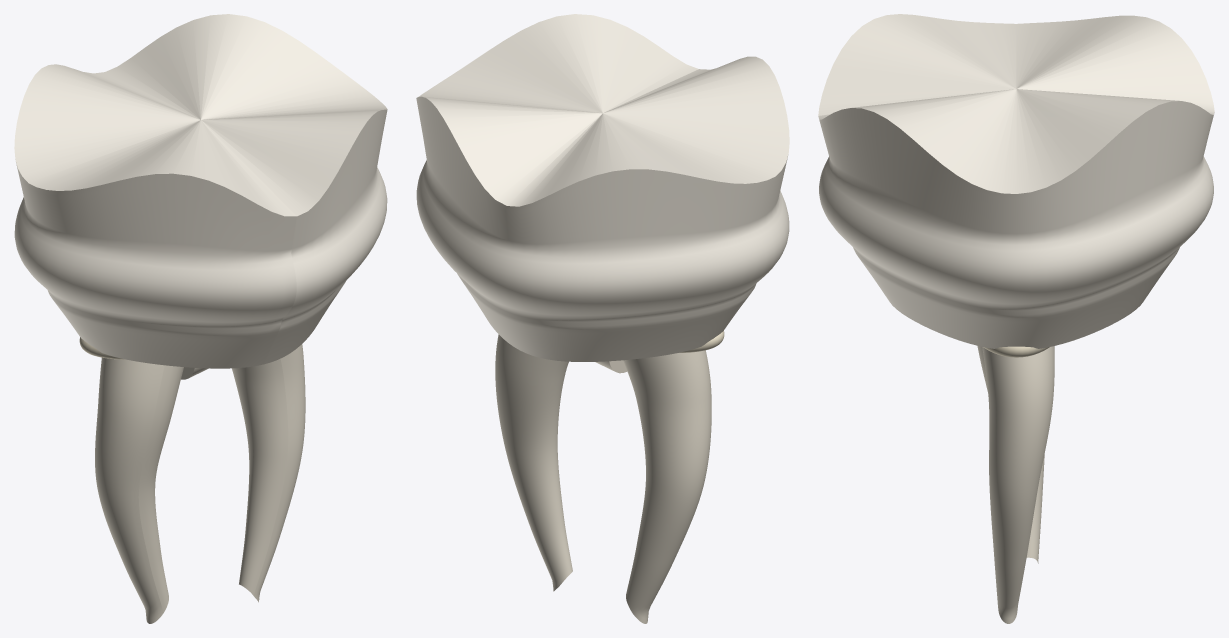
Rendered from molar-tooth.glb.
3 views of the same model, side by side, from view 1: azimuth 30°, elevation 25°; view 2: azimuth 150°, elevation 25°; view 3: azimuth 270°, elevation 25° (orthographic). The views are drawn at different scales.
Visible parts, largest first — view 1: Crown_Enamel, Mesial_Root, Distal_Root; view 2: Crown_Enamel, Mesial_Root, Distal_Root; view 3: Crown_Enamel, Distal_Root, Mesial_Root.
Part boxes in pixels (x1=…): Crown_Enamel: x1=14, y1=14, x2=387, y2=368; Mesial_Root: x1=95, y1=357, x2=183, y2=623; Distal_Root: x1=232, y1=344, x2=305, y2=602; Crown_Enamel: x1=416, y1=14, x2=789, y2=361; Mesial_Root: x1=623, y1=350, x2=711, y2=623; Distal_Root: x1=495, y1=334, x2=572, y2=591; Crown_Enamel: x1=818, y1=14, x2=1214, y2=348; Distal_Root: x1=982, y1=346, x2=1054, y2=623; Mesial_Root: x1=977, y1=346, x2=1044, y2=563.
Size of the model in its own units: 3.18 by 4.64 by 3.07.
